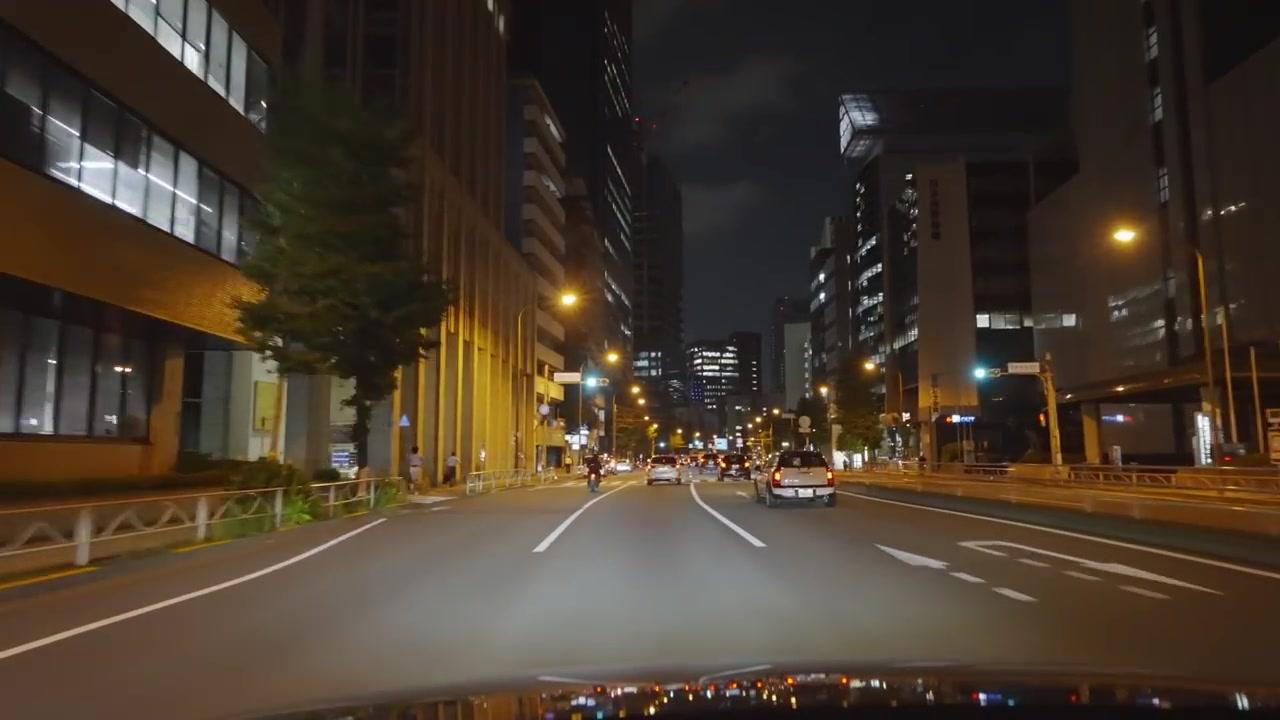car: (753, 448, 837, 507), (646, 461, 681, 486), (718, 458, 748, 481)
person: (407, 444, 423, 492), (586, 452, 602, 493), (445, 450, 460, 486)
